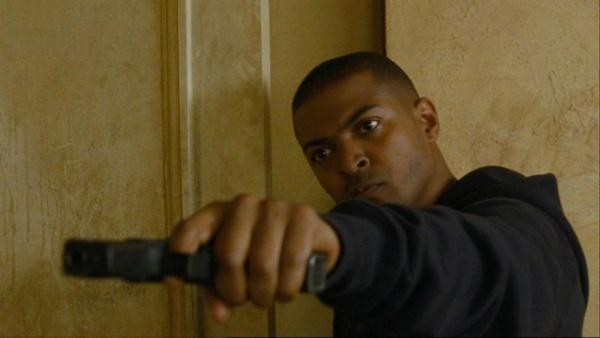Gun: (61, 236, 328, 296)
